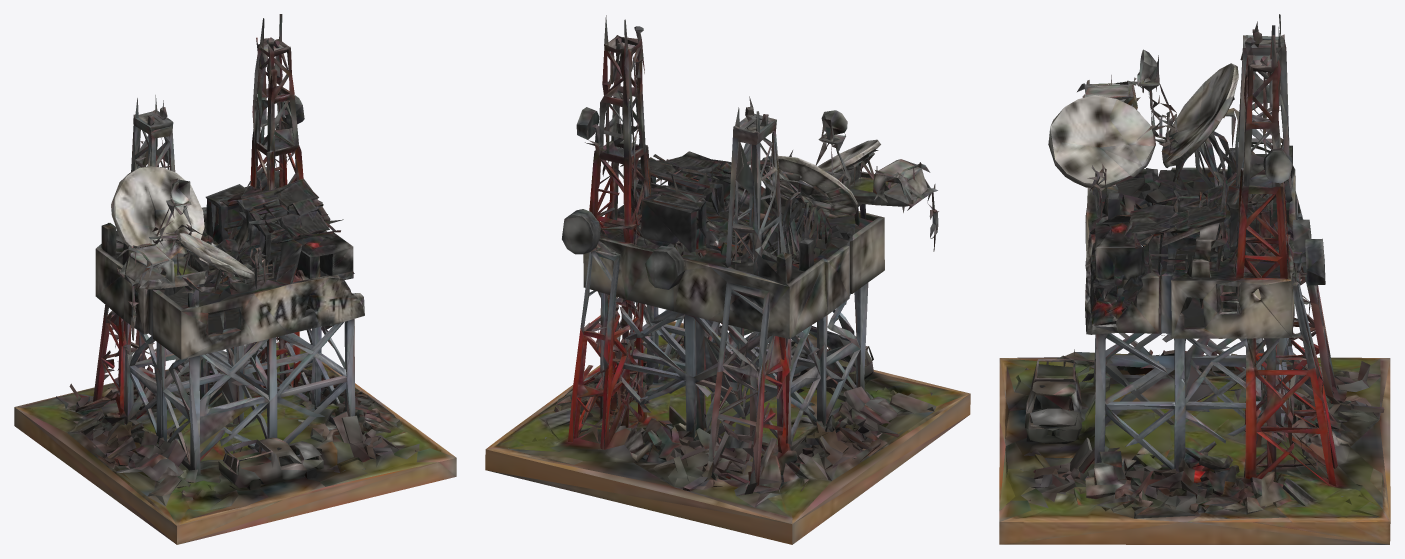
The model's file is radiotv_dev.glb.
The picture shows the model from 3 angles, left to right: view 1: azimuth 30°, elevation 25°; view 2: azimuth 150°, elevation 25°; view 3: azimuth 270°, elevation 25°; orthographic projection. The views are drawn at different scales.
Parts seen in each view (by area): view 1: output_unwrapped; view 2: output_unwrapped; view 3: output_unwrapped.
Boxes of the visible parts, <box> form: output_unwrapped: <box>14,14,456,544</box>; output_unwrapped: <box>485,15,970,544</box>; output_unwrapped: <box>999,14,1390,544</box>.
Bounding box in the file's own units: 1.46 × 1.9 × 1.42.
1 material, 1 textured.
